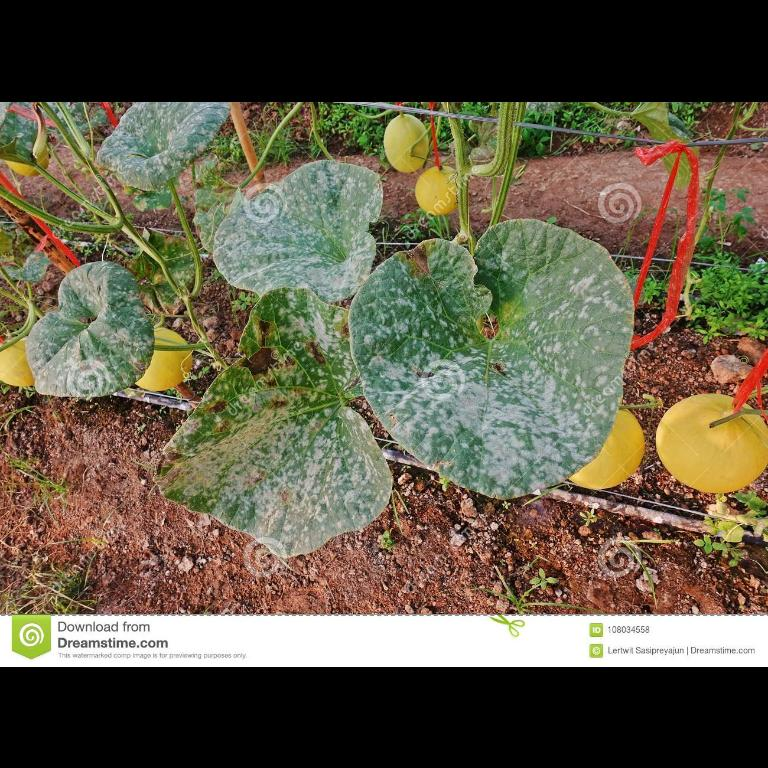powdery-mildew: (506, 249, 604, 350), (478, 371, 576, 465), (251, 435, 361, 513)
